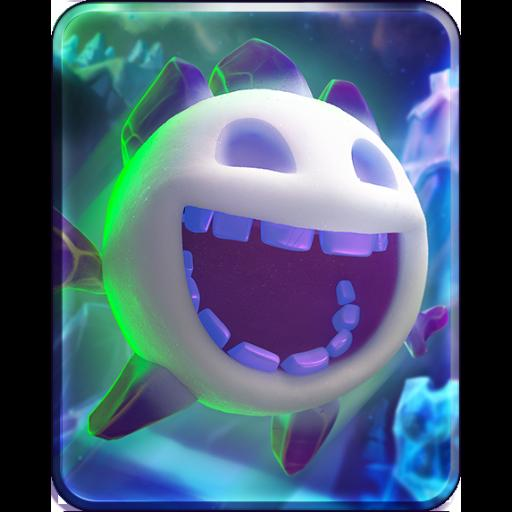ice-spirit-evo: (65, 14, 445, 496)
